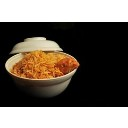briyani: (14, 54, 79, 78)
